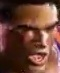kevin: (10, 5, 59, 68)
